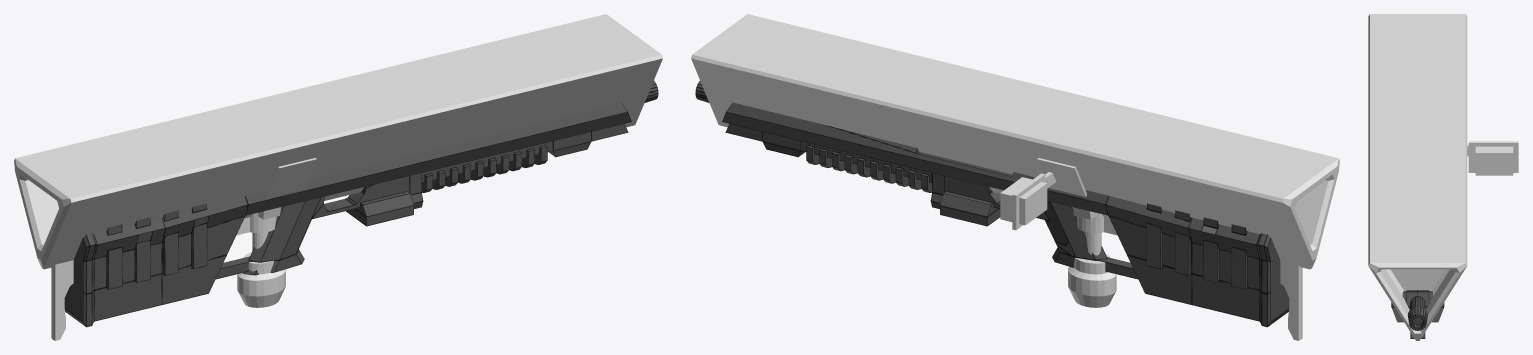
The model's file is rocketLauncher.fbx.
The picture shows the model from 3 angles, left to right: view 1: azimuth 30°, elevation 25°; view 2: azimuth 150°, elevation 25°; view 3: azimuth 270°, elevation 25°; orthographic projection. The views are drawn at different scales.
Parts seen in each view (by area): view 1: Cylinder, weapon01, Cylinder.001; view 2: Cylinder, weapon01, Cylinder.001, Cube.001, Cube; view 3: Cylinder, Cube.001, weapon01, Cube.
Boxes of the visible parts, box(x1,y1,x2,y2) form: Cylinder: box(14, 14, 662, 269); weapon01: box(64, 81, 658, 327); Cylinder.001: box(51, 158, 316, 340); Cylinder: box(691, 14, 1339, 269); weapon01: box(695, 81, 1289, 327); Cylinder.001: box(1037, 158, 1302, 340); Cube.001: box(1000, 177, 1047, 225); Cube: box(1012, 172, 1056, 230); Cylinder: box(1368, 14, 1467, 340); Cube.001: box(1475, 146, 1513, 175); weapon01: box(1391, 290, 1444, 338); Cube: box(1467, 141, 1518, 172).
Bounding box in the file's own units: 517 × 142 × 127.
